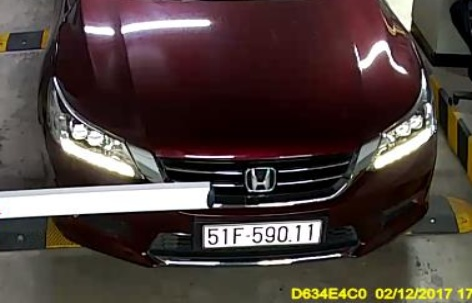plate: (198, 221, 323, 251)
